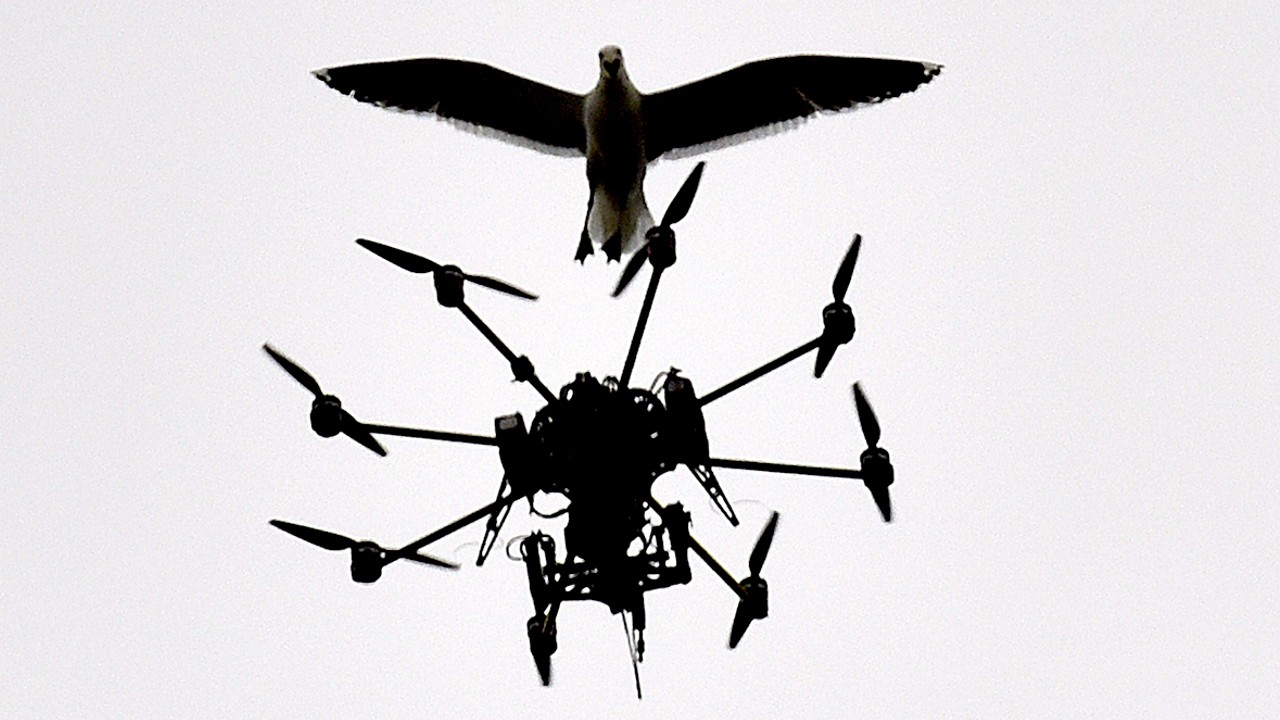Bird: (285, 33, 952, 259)
UAV: (246, 156, 953, 692)
